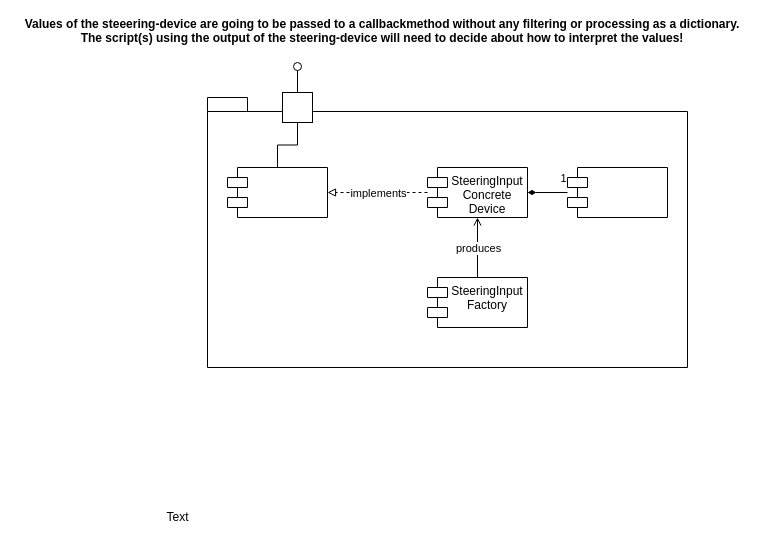
Image size: 764x549. Some labels were removed from this diagram. Here are the shapes that lost their labels. From the top down, the centre of each, then its label:
At pixel 277 192: "SteeringInput Device".
At pixel 617 192: "SteeringInput Config".
